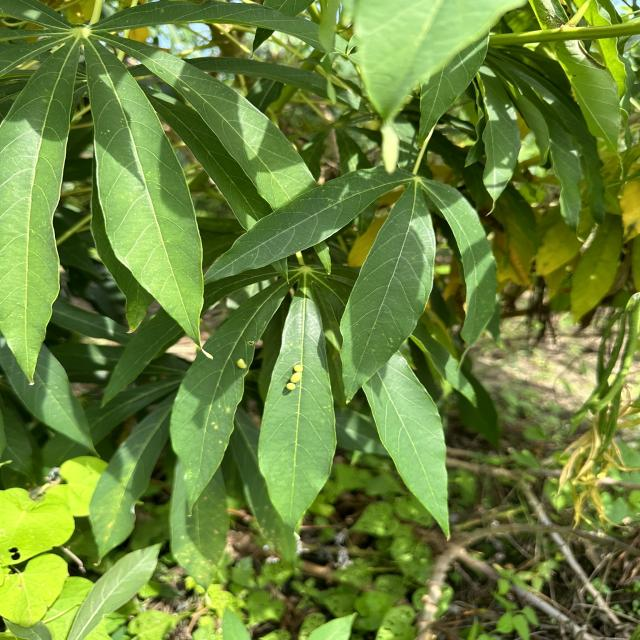Mosca: (279, 364, 310, 396), (232, 349, 248, 375)
